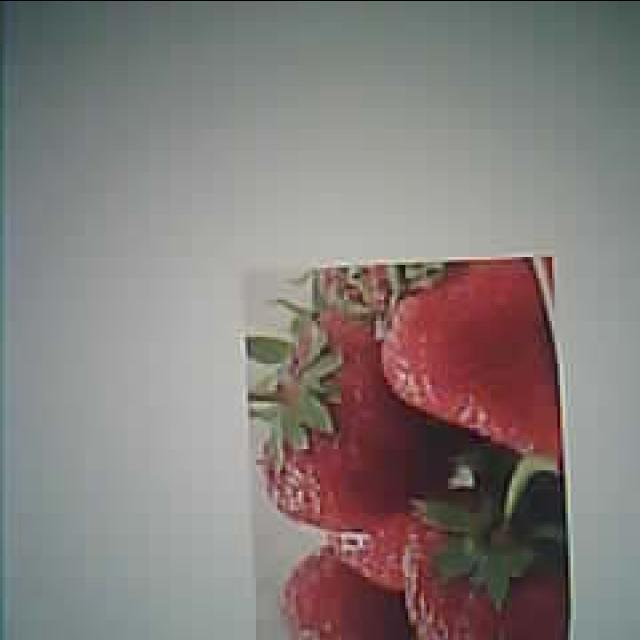strawberry: (386, 262, 552, 449)
